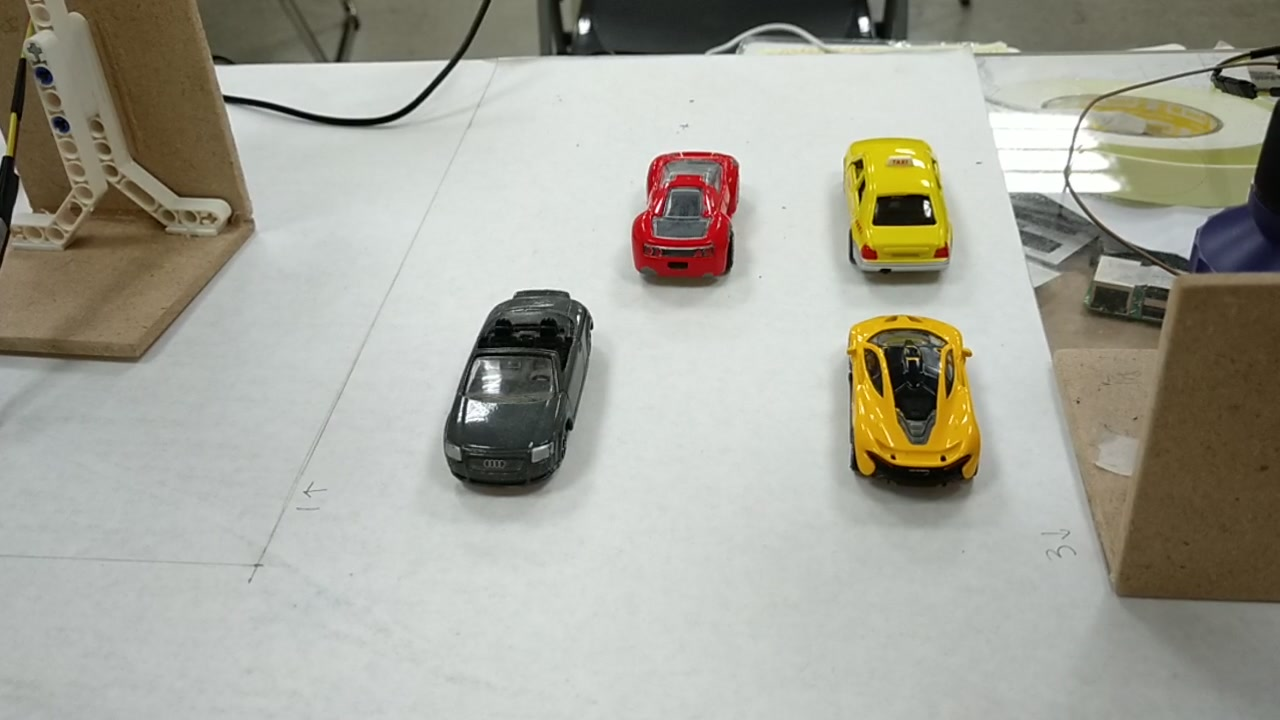car: (444, 297, 597, 488), (844, 324, 976, 483), (629, 145, 743, 272), (845, 133, 949, 269)
